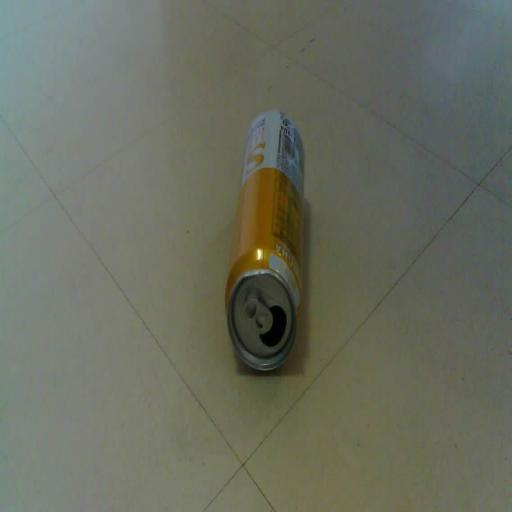canned: (208, 96, 322, 380)
